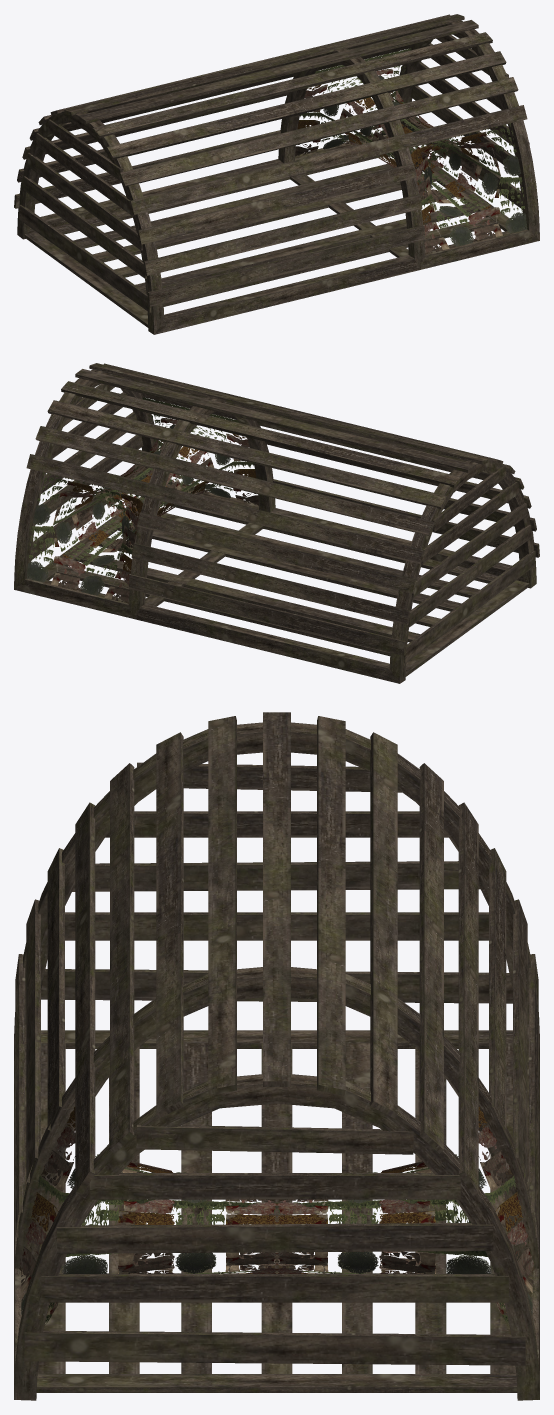
The model's file is LobsterTrap.fbx.
The picture shows the model from 3 angles, top to bottom: view 1: azimuth 30°, elevation 25°; view 2: azimuth 150°, elevation 25°; view 3: azimuth 270°, elevation 25°; orthographic projection. The views are drawn at different scales.
Visible parts, largest first — view 1: LobsterTrap; view 2: LobsterTrap; view 3: LobsterTrap.
Part boxes in pixels (<box>): LobsterTrap: <box>14,14,539,334</box>; LobsterTrap: <box>14,363,539,683</box>; LobsterTrap: <box>14,712,539,1400</box>.
Size of the model in its own units: 107 by 43.71 by 64.57.
